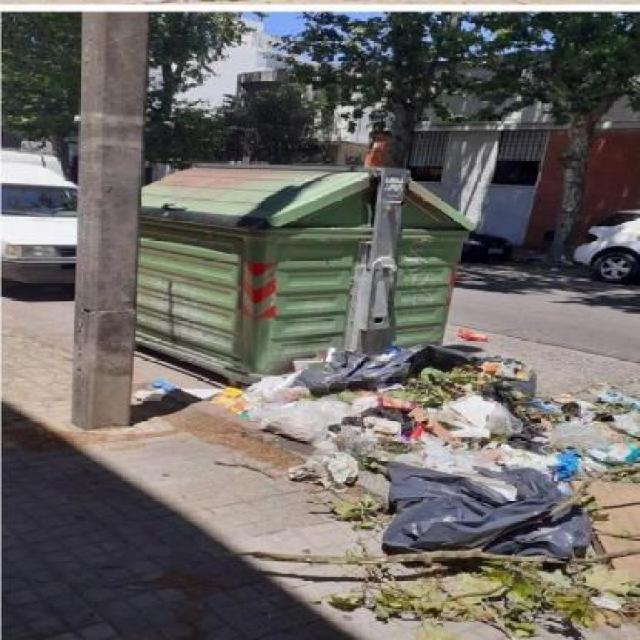garbage: (139, 351, 640, 640)
